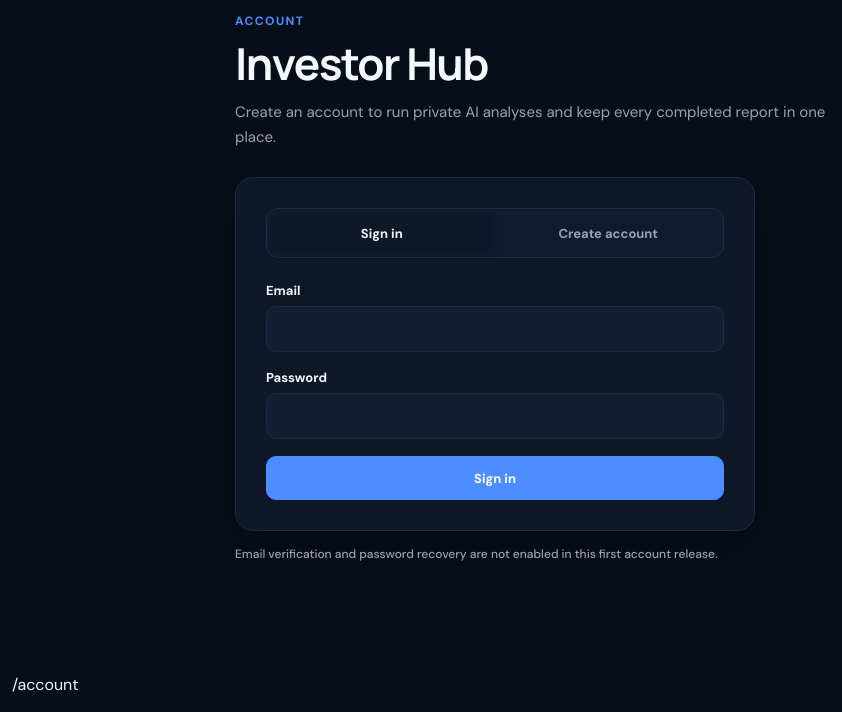
Test: Investor Hub › returns a signed-in user to their selected AI Analysis stock
In the field labelled "Email": (495, 330) [266, 306, 724, 352], type "person@example.com"
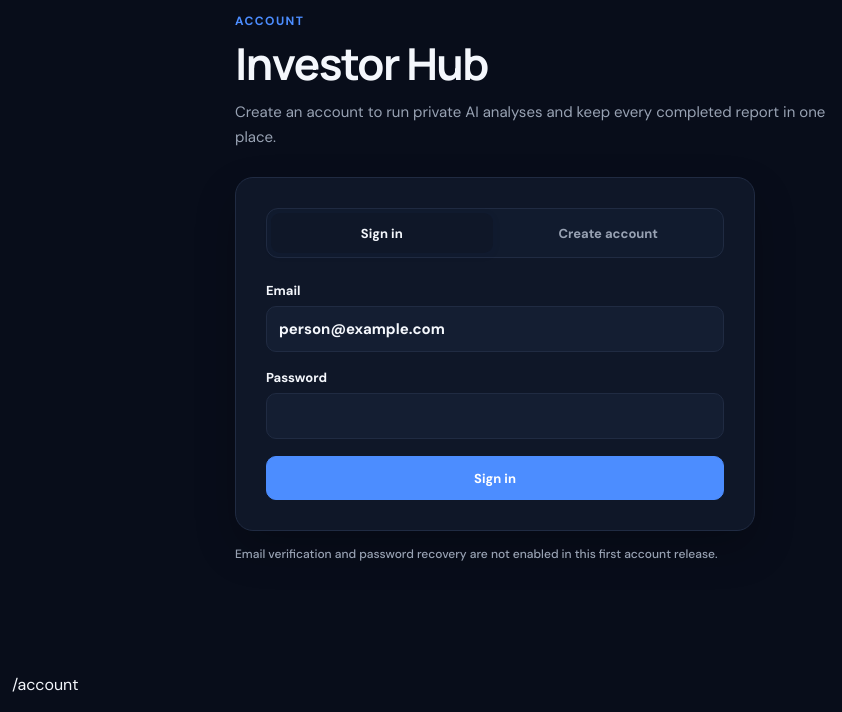
In the password field labelled "Password": (495, 416) [266, 394, 724, 440], type "password123"
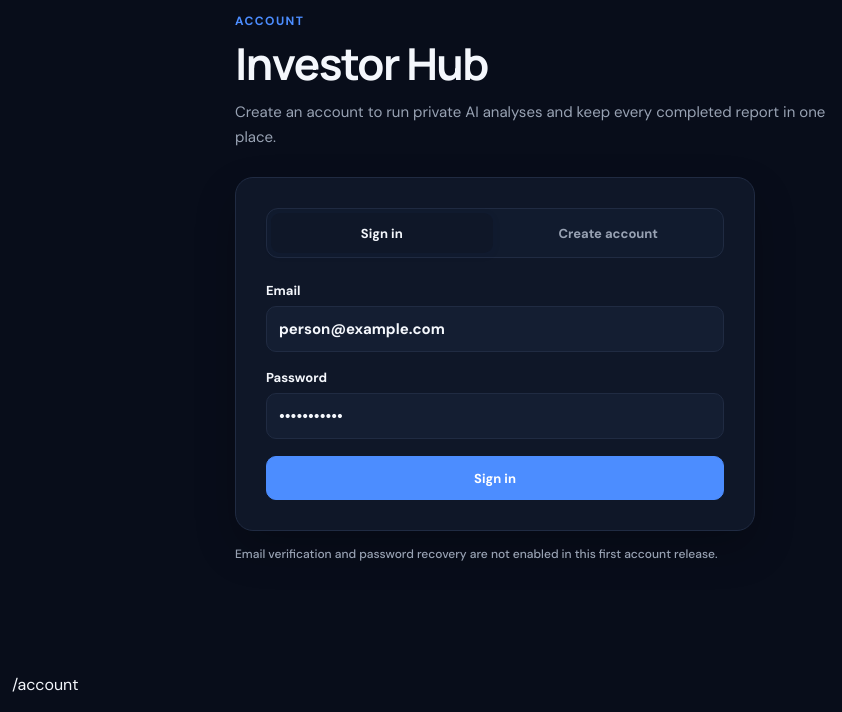
Click the 2nd button "Sign in": (495, 478) [266, 456, 724, 500]
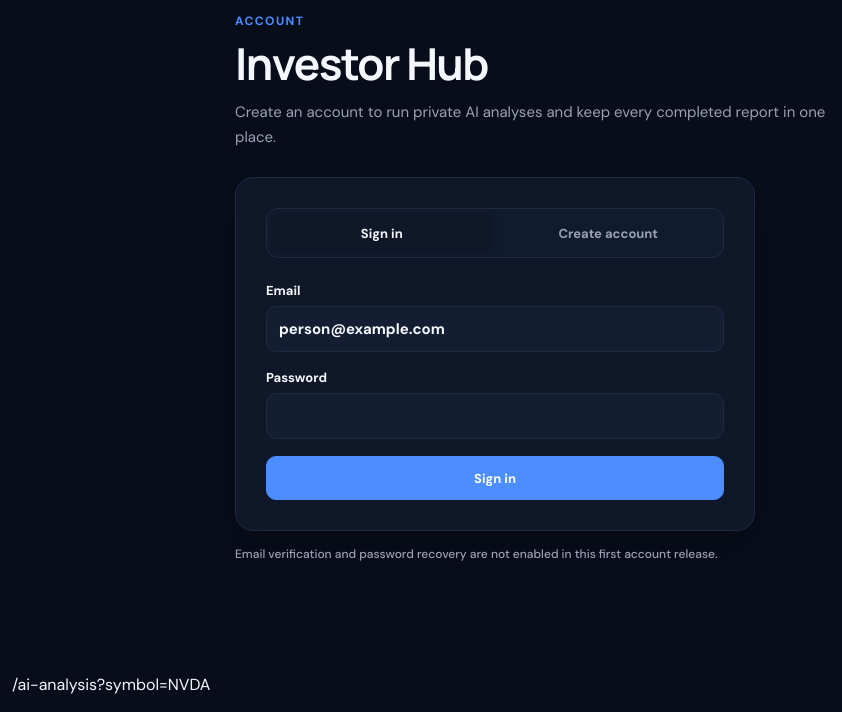
Expected: the text named "Current route" reads "/ai-analysis?symbol=NVDA", [12, 674, 210, 695]
